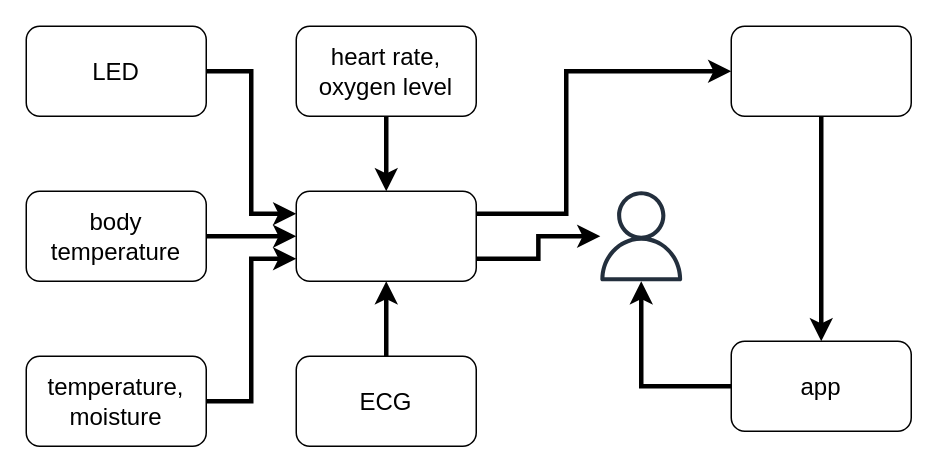
The diagram is 938 pixels wide and 473 high, and some of its shapes have lost their labels. The shapes that lost their labels are listed below. From the top down, each one's centre as x and y in pixels, then its label:
(820,70): API , db
(385,235): Raspberry Pi
